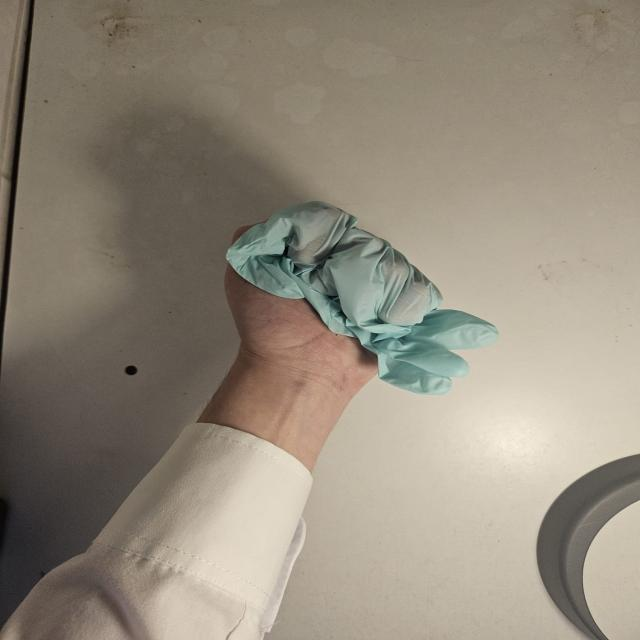glove_partial: (223, 199, 502, 396)
